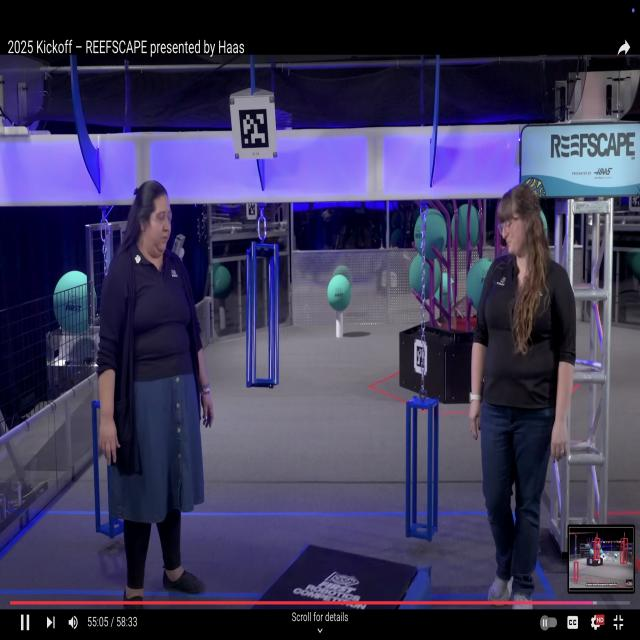algae: (52, 266, 98, 336), (406, 249, 440, 299), (414, 208, 447, 258), (451, 199, 480, 252), (467, 256, 492, 306), (324, 272, 352, 312), (436, 269, 458, 314)
coral: (333, 306, 345, 342)
